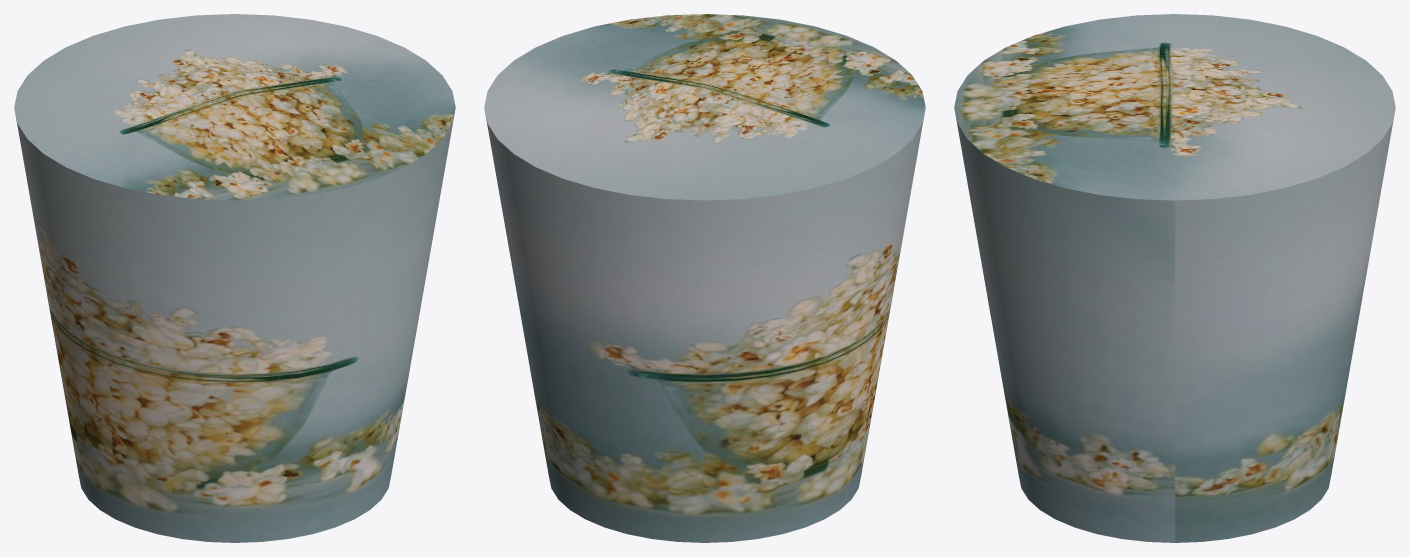
The model's file is p5-cheese-popcorn.glb.
The picture shows the model from 3 angles, left to right: view 1: azimuth 30°, elevation 25°; view 2: azimuth 150°, elevation 25°; view 3: azimuth 270°, elevation 25°; orthographic projection.
Size of the model in its own units: 1.84 by 1.78 by 1.84.
Materials: 1 (1 with a texture image).
